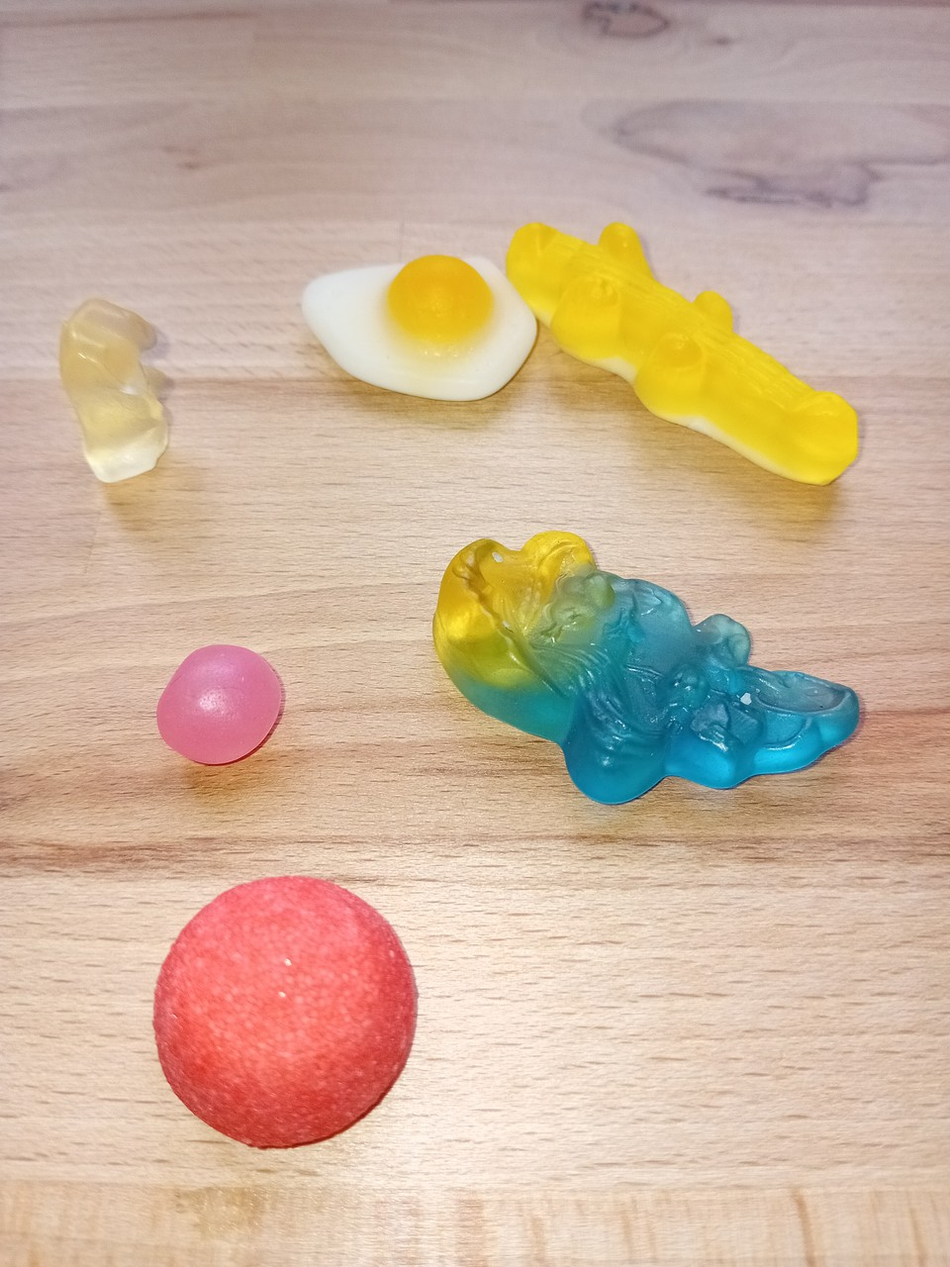crocodile_jaune: (500, 214, 865, 493)
dragibus_rose: (140, 635, 291, 776)
oeuf_oeuf: (295, 245, 536, 412)
ourson_blanc: (47, 290, 182, 491)
schtroumpf_bleu-jaune: (421, 527, 871, 817)
tagada_fraise: (139, 860, 421, 1157)
